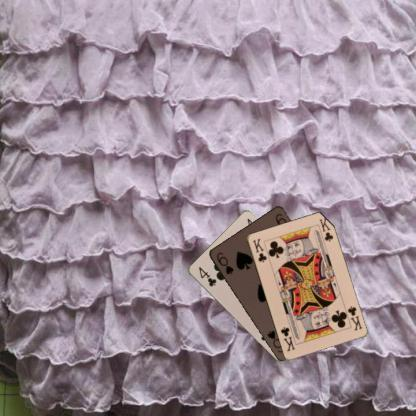4c: (196, 264, 218, 288)
6s: (214, 250, 234, 276)
Kc: (345, 303, 363, 332), (250, 236, 268, 263)
